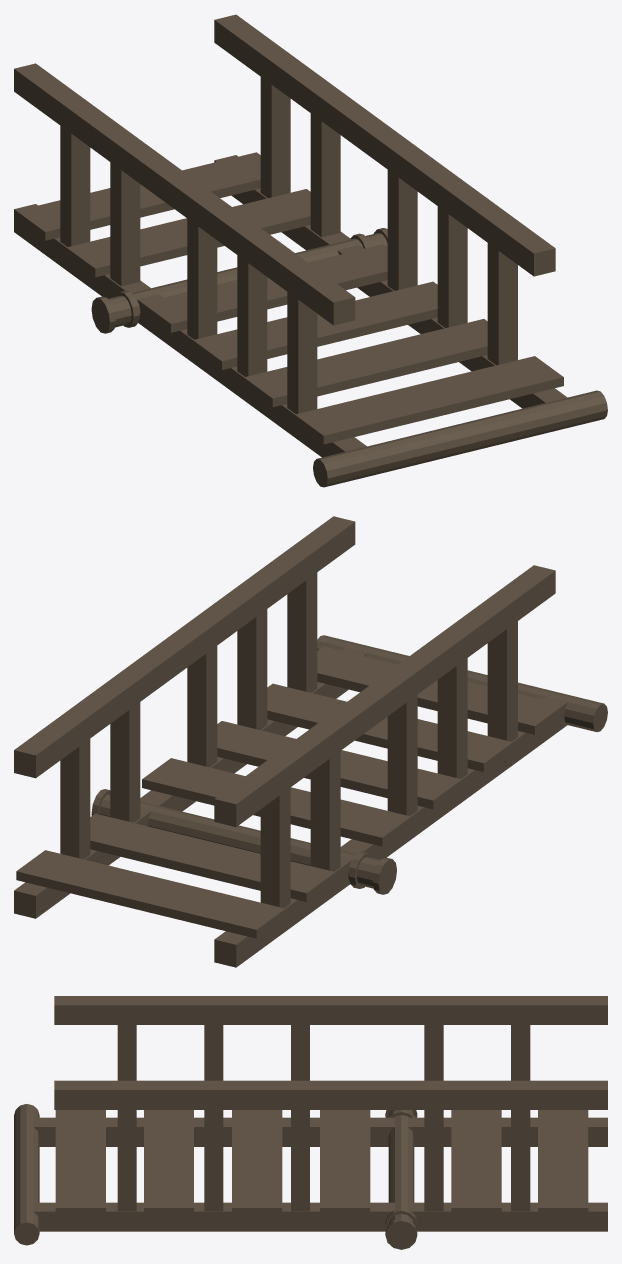
3 views of the same model, one above another, from view 1: azimuth 30°, elevation 25°; view 2: azimuth 150°, elevation 25°; view 3: azimuth 270°, elevation 25° (orthographic). The views are drawn at different scales.
Visible parts, largest first — view 1: 吊桥b3, 吊桥b7, 吊桥b7_1, 吊桥b1, 吊桥b2_2, 吊桥b6_3_2, 吊桥b6_3, 吊桥b6_1_3, 吊桥b6_1, 吊桥b6_2_3, 吊桥b6, 吊桥b6_4_2 (+6 smaller); view 2: 吊桥b3, 吊桥b7_1, 吊桥b7, 吊桥b2_2, 吊桥b4, 吊桥b2_1, 吊桥b6_2_4, 吊桥b6_2, 吊桥b6_2_3, 吊桥b6_3_2, 吊桥b6_4_2, 吊桥b6 (+6 smaller); view 3: 吊桥b3, 吊桥b7, 吊桥b7_1, 吊桥b2_1, 吊桥b2_2, 吊桥b1, 吊桥b4, 吊桥b6_3_2, 吊桥b6_2_3, 吊桥b6_1_3, 吊桥b6_4_2, 吊桥b6_2_4 (+6 smaller).
Part boxes in pixels (bbox=[...]): 吊桥b3: bbox=[16, 152, 563, 444]; 吊桥b7: bbox=[214, 14, 555, 276]; 吊桥b7_1: bbox=[14, 63, 355, 325]; 吊桥b1: bbox=[313, 390, 607, 487]; 吊桥b2_2: bbox=[14, 204, 366, 457]; 吊桥b6_3_2: bbox=[310, 113, 340, 237]; 吊桥b6_3: bbox=[110, 162, 140, 286]; 吊桥b6_1_3: bbox=[487, 243, 517, 365]; 吊桥b6_1: bbox=[287, 292, 317, 414]; 吊桥b6_2_3: bbox=[437, 206, 467, 327]; 吊桥b6: bbox=[237, 255, 267, 376]; 吊桥b6_4_2: bbox=[260, 77, 290, 198]; 吊桥b3: bbox=[16, 646, 563, 938]; 吊桥b7_1: bbox=[214, 565, 555, 826]; 吊桥b7: bbox=[14, 516, 355, 778]; 吊桥b2_2: bbox=[214, 697, 567, 967]; 吊桥b4: bbox=[99, 794, 395, 891]; 吊桥b2_1: bbox=[14, 648, 367, 918]; 吊桥b6_2_4: bbox=[187, 646, 217, 767]; 吊桥b6_2: bbox=[387, 695, 417, 816]; 吊桥b6_2_3: bbox=[237, 609, 267, 729]; 吊桥b6_3_2: bbox=[110, 702, 140, 822]; 吊桥b6_4_2: bbox=[60, 739, 90, 859]; 吊桥b6: bbox=[437, 658, 467, 778]; 吊桥b3: bbox=[55, 1110, 588, 1215]; 吊桥b7: bbox=[54, 1080, 607, 1109]; 吊桥b7_1: bbox=[54, 996, 607, 1024]; 吊桥b2_1: bbox=[33, 1202, 607, 1231]; 吊桥b2_2: bbox=[33, 1117, 607, 1146]; 吊桥b1: bbox=[14, 1104, 39, 1245]; 吊桥b4: bbox=[388, 1110, 414, 1246]; 吊桥b6_3_2: bbox=[424, 1110, 443, 1211]; 吊桥b6_2_3: bbox=[204, 1110, 223, 1211]; 吊桥b6_1_3: bbox=[117, 1110, 136, 1211]; 吊桥b6_4_2: bbox=[511, 1110, 530, 1211]; 吊桥b6_2_4: bbox=[291, 1110, 309, 1211].
Size of the model in its own units: 166 by 93.04 by 343.
